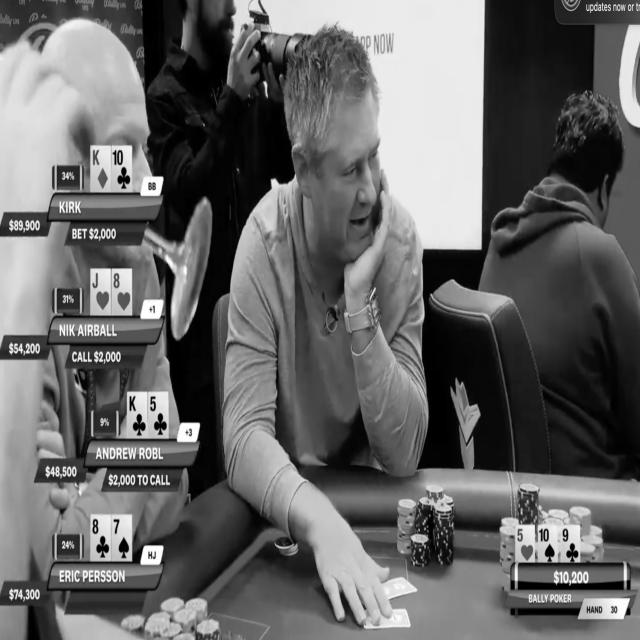10S: (538, 525, 557, 563)
5C: (148, 392, 168, 439)
5H: (516, 526, 534, 563)
7S: (112, 515, 131, 562)
8C: (91, 515, 111, 561)
8H: (112, 269, 131, 316)
9C: (562, 524, 580, 564)
JH: (91, 270, 111, 314)
KC: (128, 391, 147, 437)
KD: (91, 146, 110, 193)
